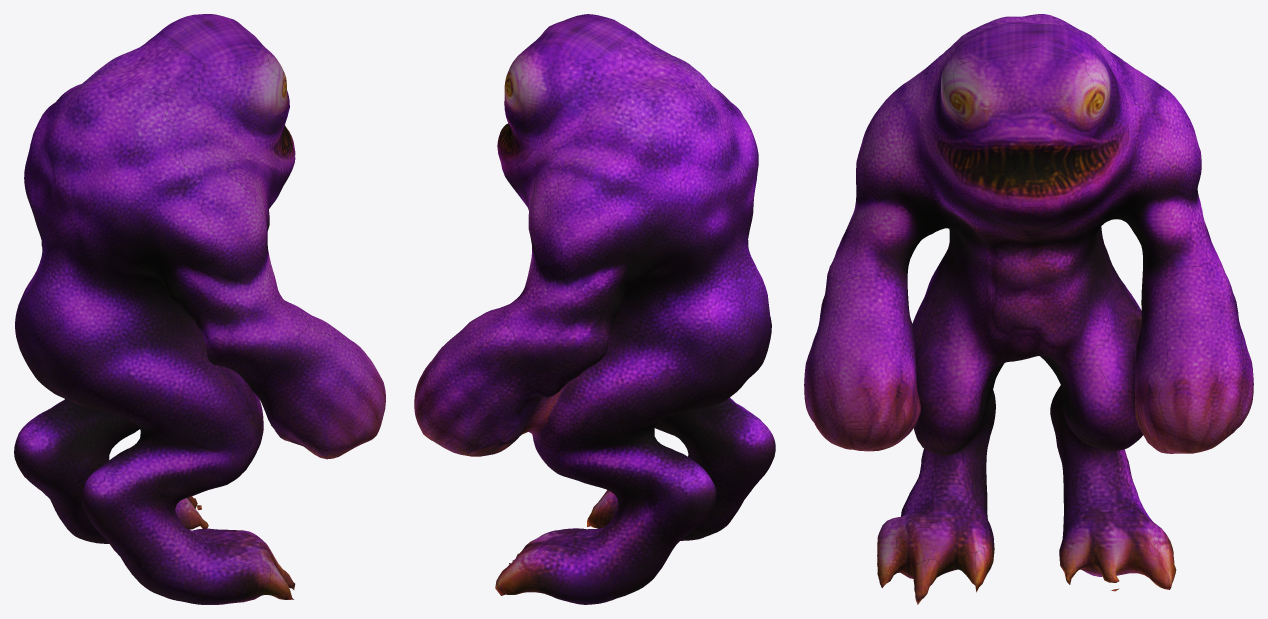
File: monster-purple.glb
3 renders of one model, left to right at view 1: azimuth 30°, elevation 25°; view 2: azimuth 150°, elevation 25°; view 3: azimuth 270°, elevation 25°, orthographic. The views are drawn at different scales.
Visible parts, largest first — view 1: Mesh1; view 2: Mesh1; view 3: Mesh1.
Boxes of the visible parts, x1=… form: Mesh1: x1=14, y1=14, x2=385, y2=604; Mesh1: x1=414, y1=14, x2=775, y2=604; Mesh1: x1=804, y1=14, x2=1253, y2=604.
Bounding box in the file's own units: 0.6344 × 1.2 × 0.8707.
1 material, 1 textured.
